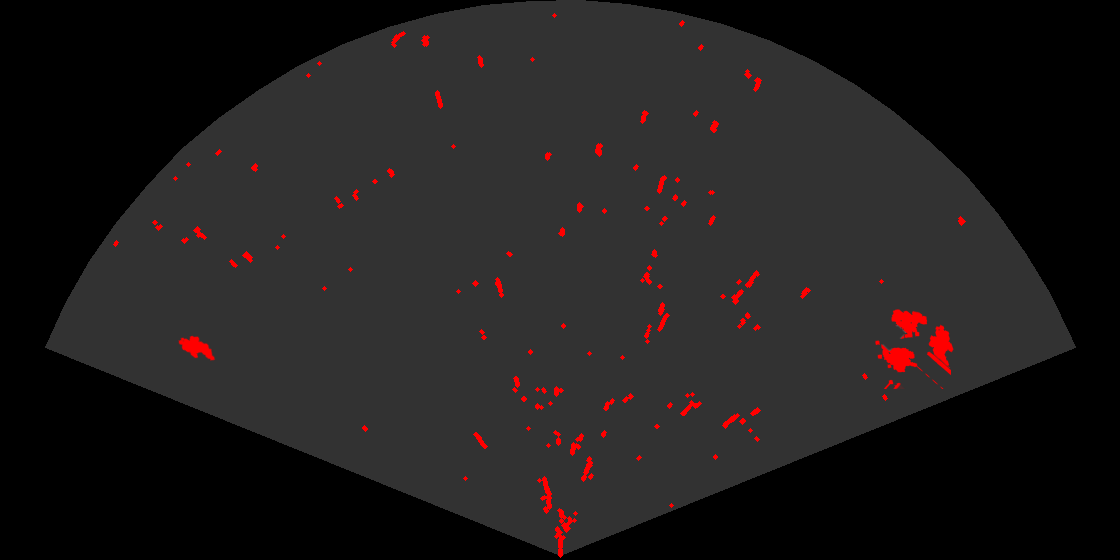AUV: (927, 323, 955, 373), (177, 334, 217, 362)
cage: (874, 308, 951, 389)
